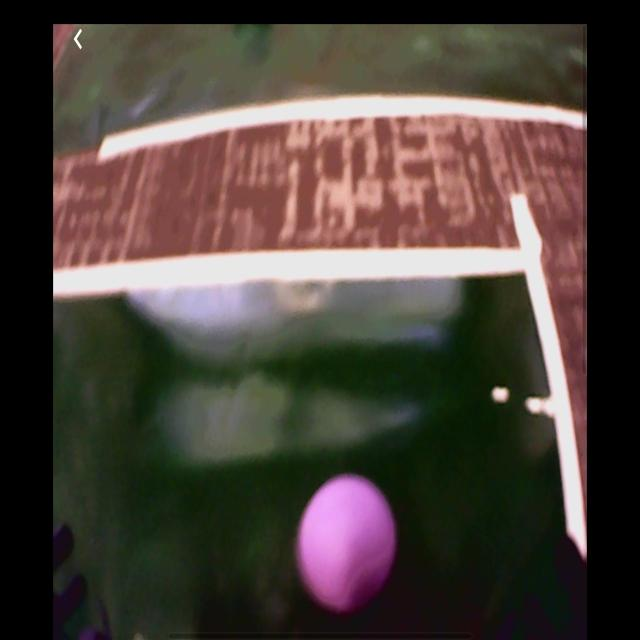ball: (294, 469, 398, 612)
